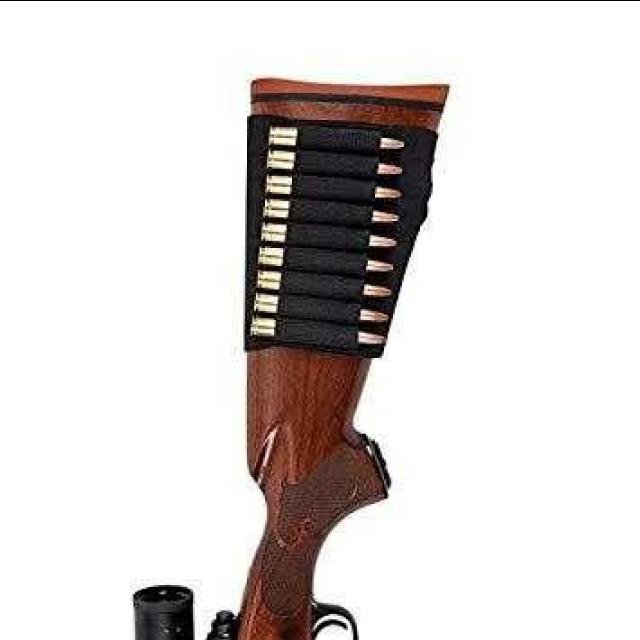heavyweapon: (133, 61, 461, 640)
